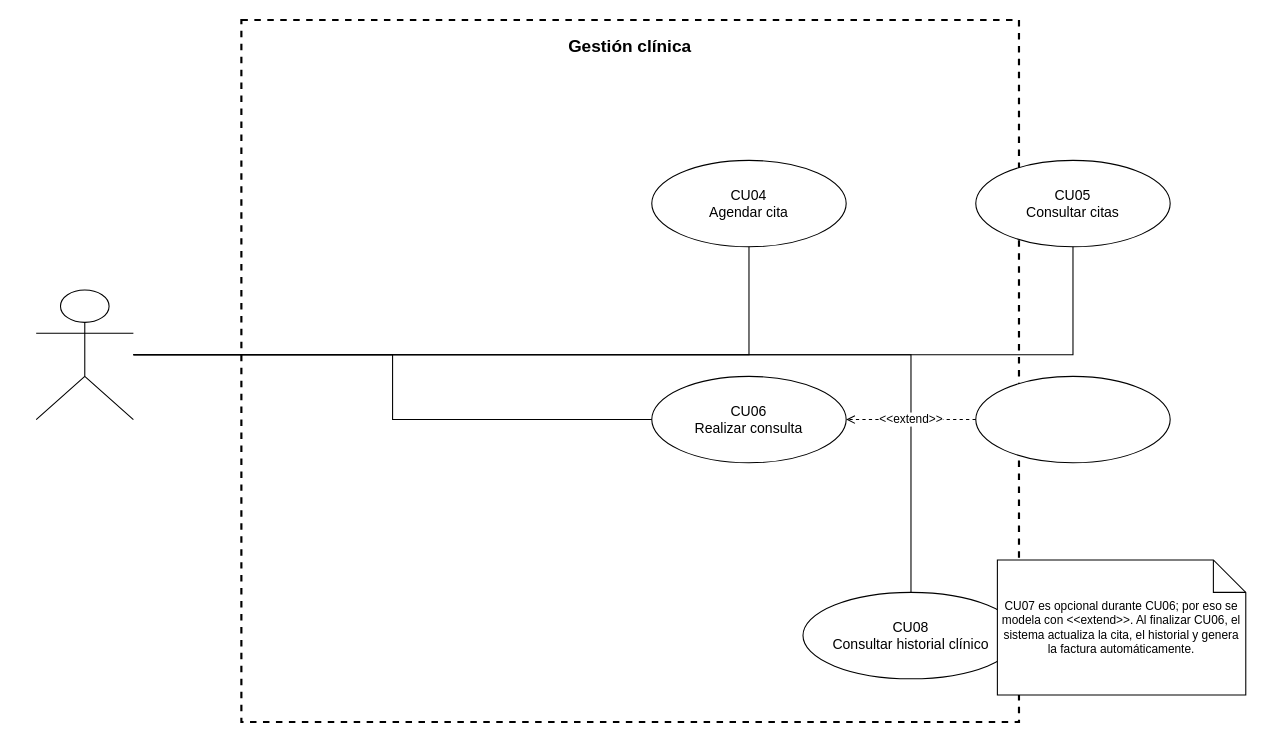
The diagram is 1265 pixels wide and 741 high, and some of its shapes have lost their labels. The centre of each missing label's shape, as x and y in pixels:
"CU07 Generar receta" goes at [1072,419].
"Usuario del sistema" goes at [84,354].
